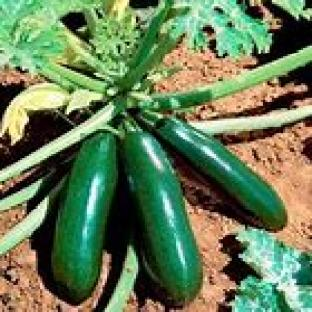Zucchini: (141, 113, 287, 228), (121, 129, 202, 305), (52, 134, 118, 303)
